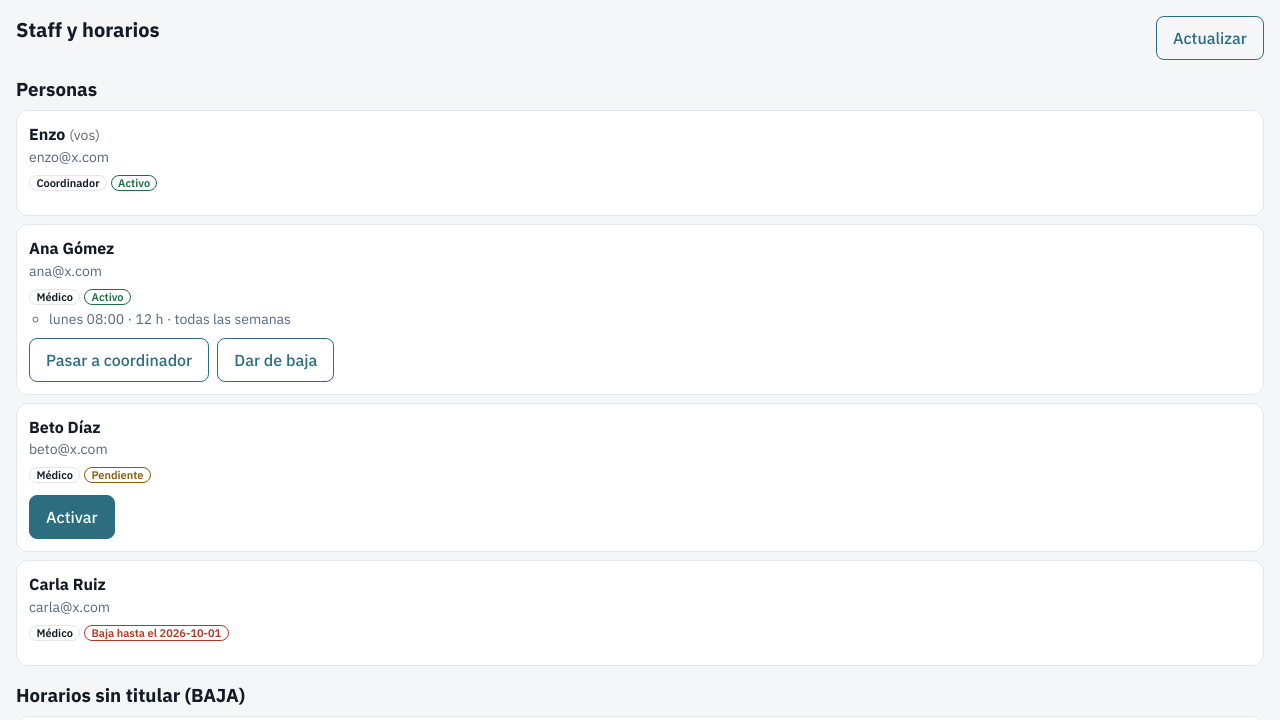
Scenario: PantallaStaff › activar a un pendiente manda PATCH estado ACTIVO y recarga
Check: the heading "Staff y horarios" is shown, box [16, 16, 160, 44]
Click the button "Activar": {"x": 72, "y": 517} [29, 495, 115, 539]
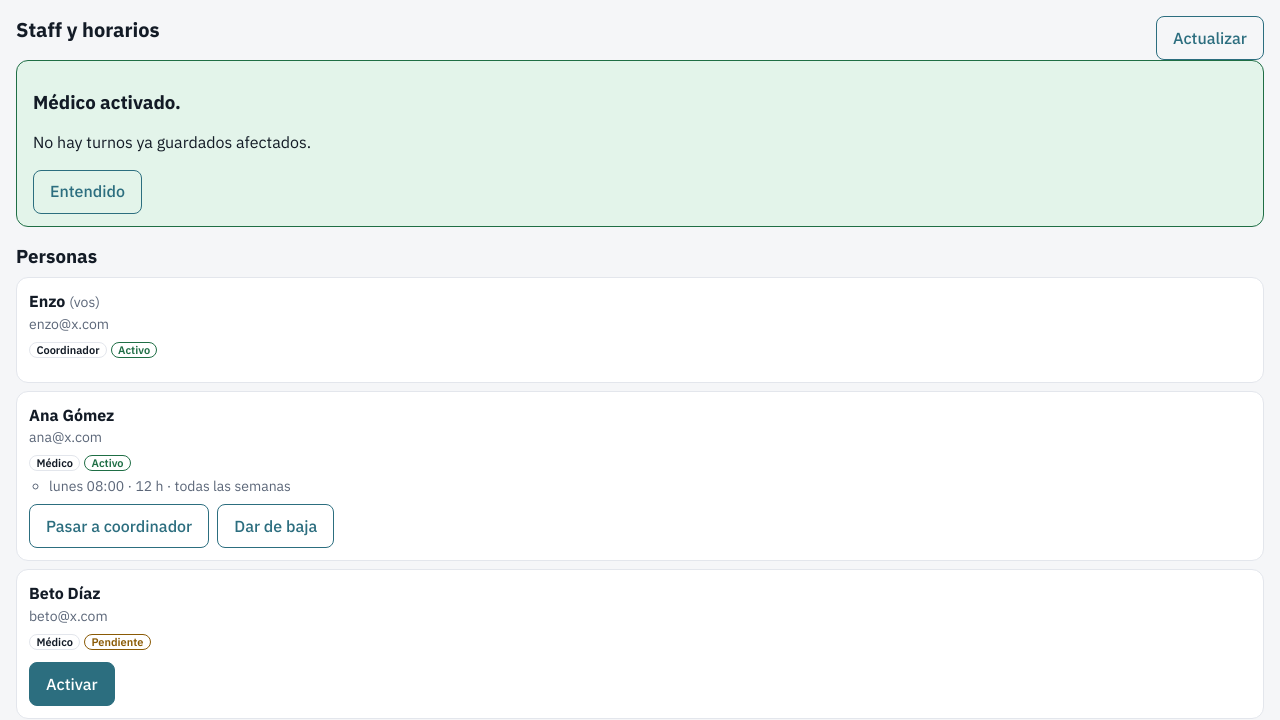
Check: the heading "Médico activado." is shown, box [33, 90, 181, 114]
